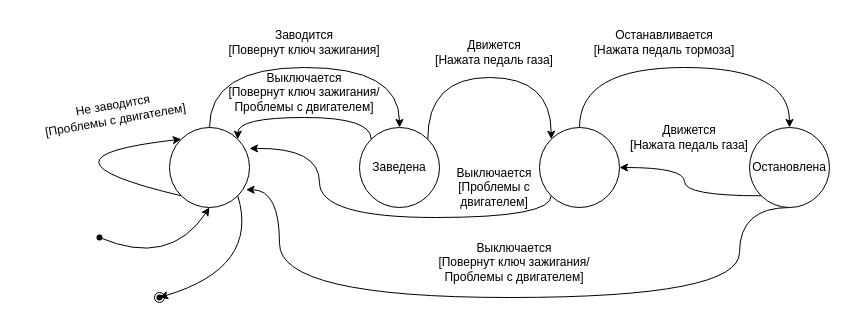
Image size: 848x325. Some labels were removed from this diagram. Here are the shapes that lost their labels. From the top down, the box of each, then its label:
(168, 126, 250, 208): Выключена
(538, 126, 620, 208): Движется
